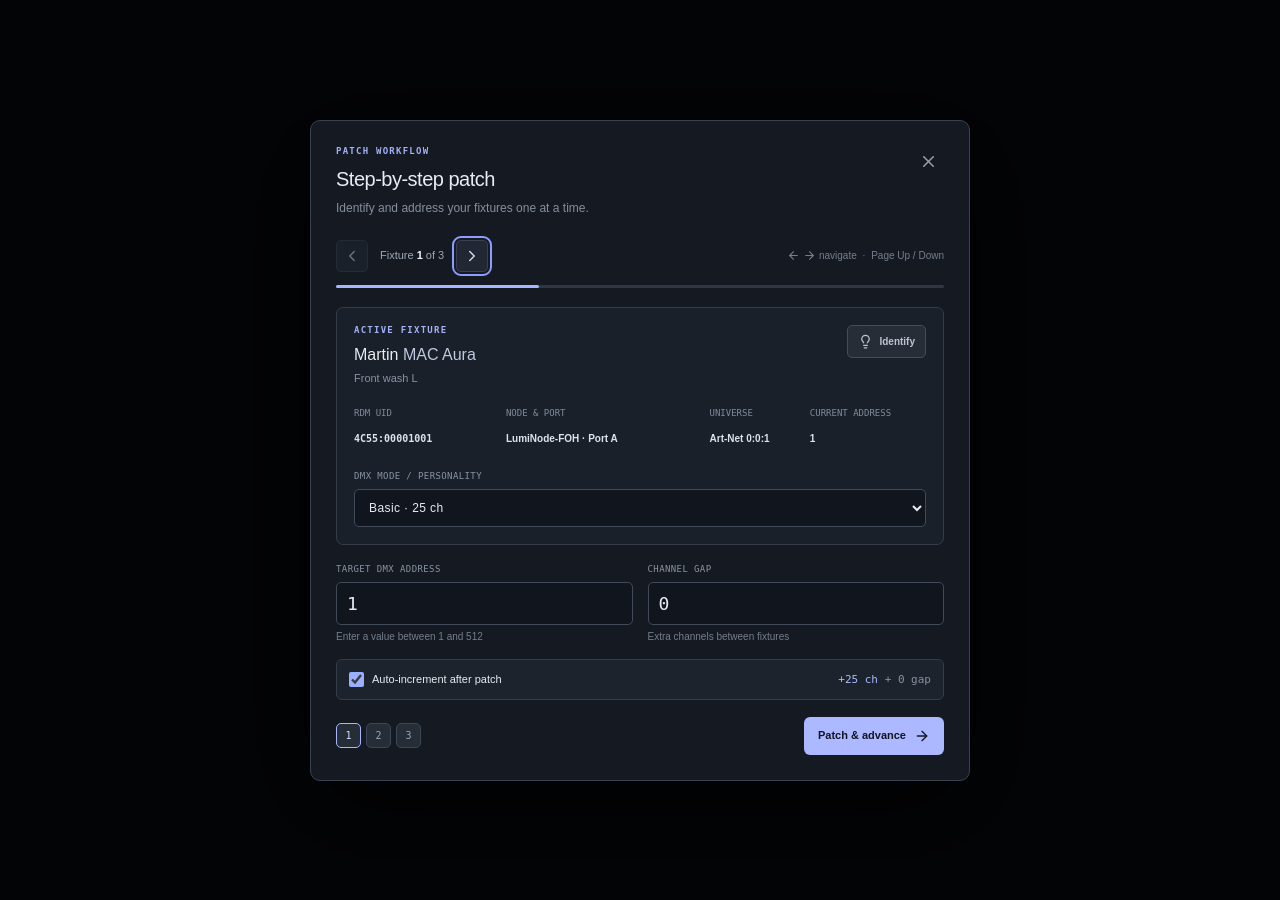
it: patch modal keyboard behavior › focuses initially, preserves navigation focus, and patches with Enter on an arrow
The image size is (1280, 900).
Click the button named "Next fixture" at (472, 256), box 456,240 -> 488,272
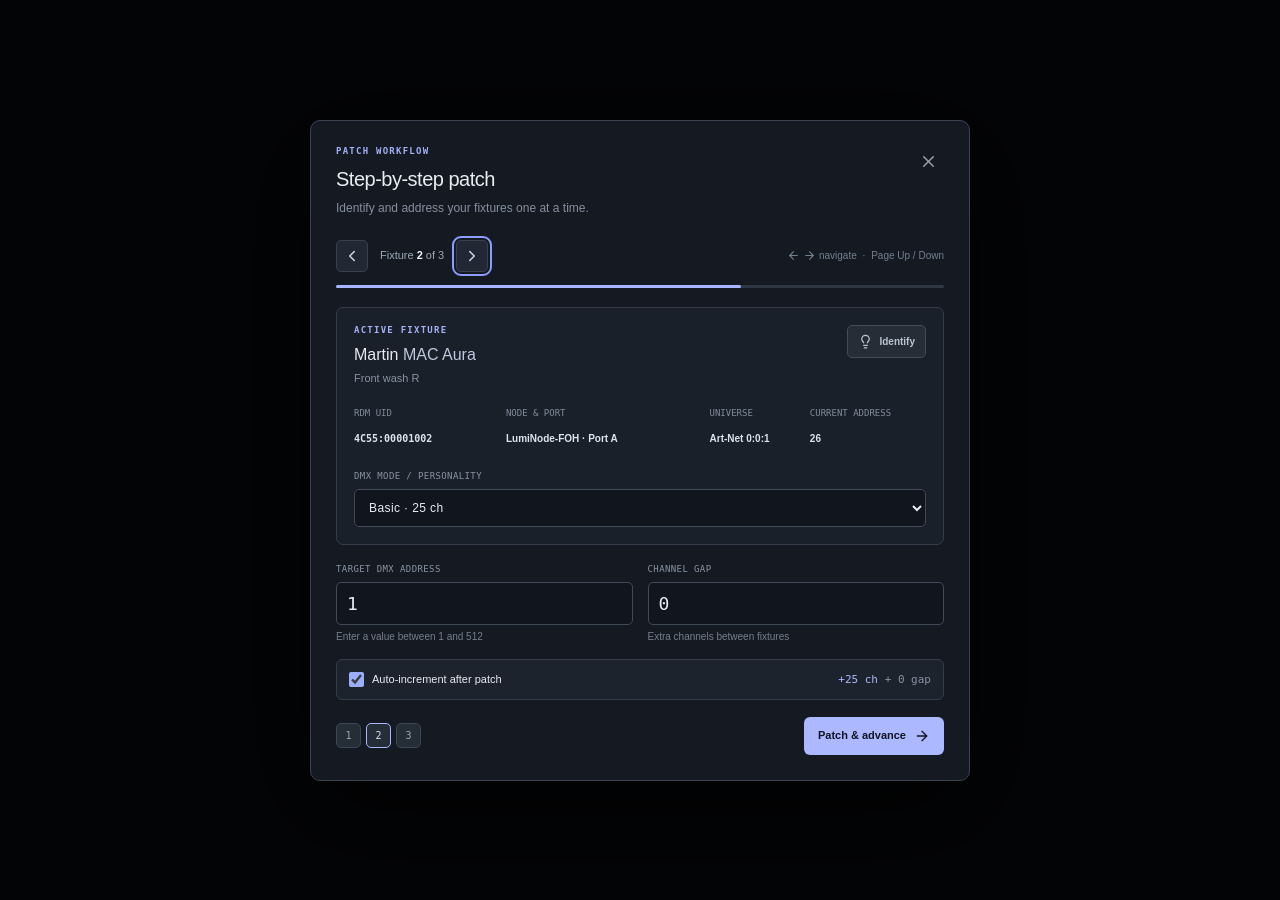
Check: the text "Fixture 2 of 3" is shown, box 380,247 -> 444,264
Press ArrowRight in the button named "Next fixture", box 456,240 -> 488,272
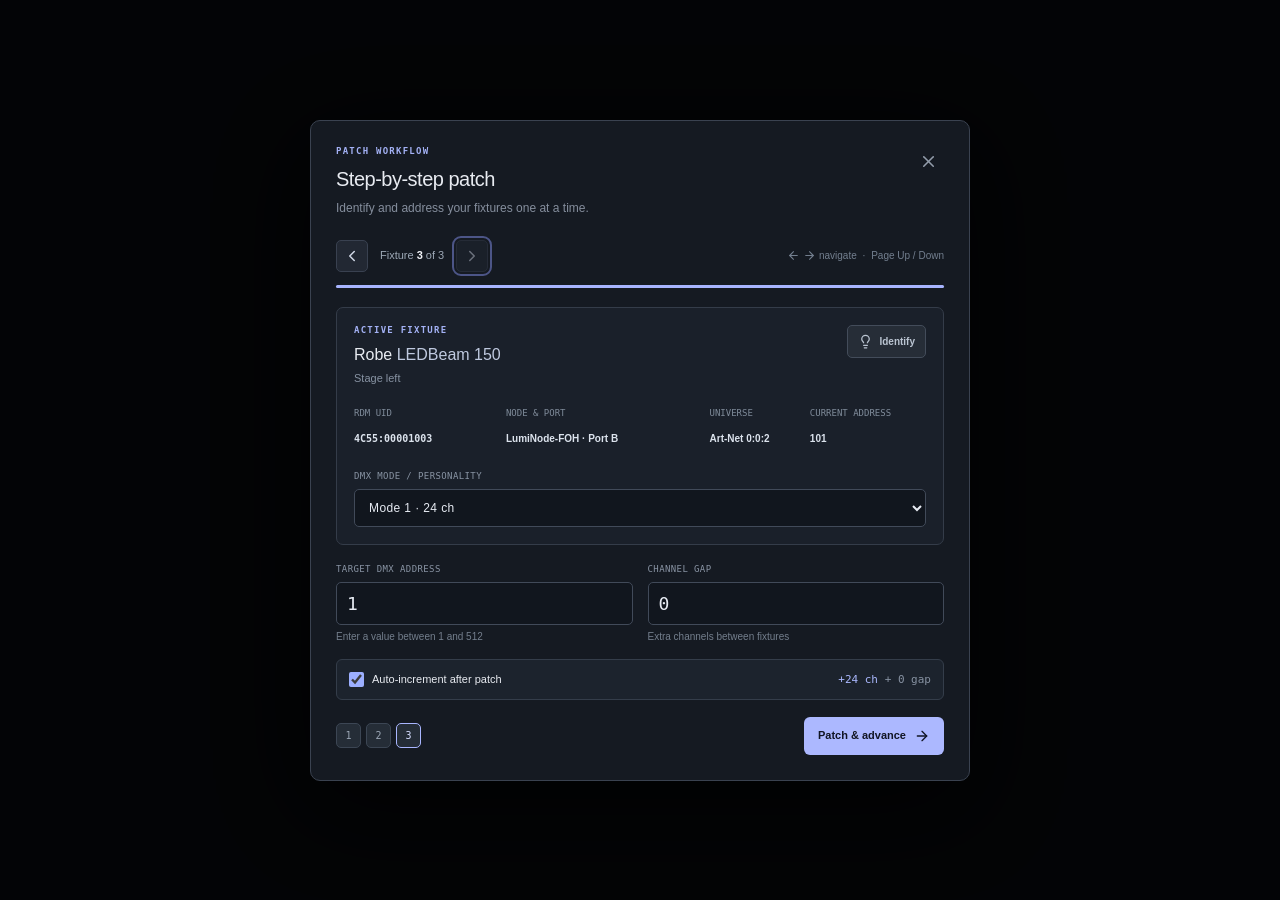
Check: the text "Fixture 3 of 3" is shown, box 380,247 -> 444,264
Press Enter in the button named "Next fixture", box 456,240 -> 488,272
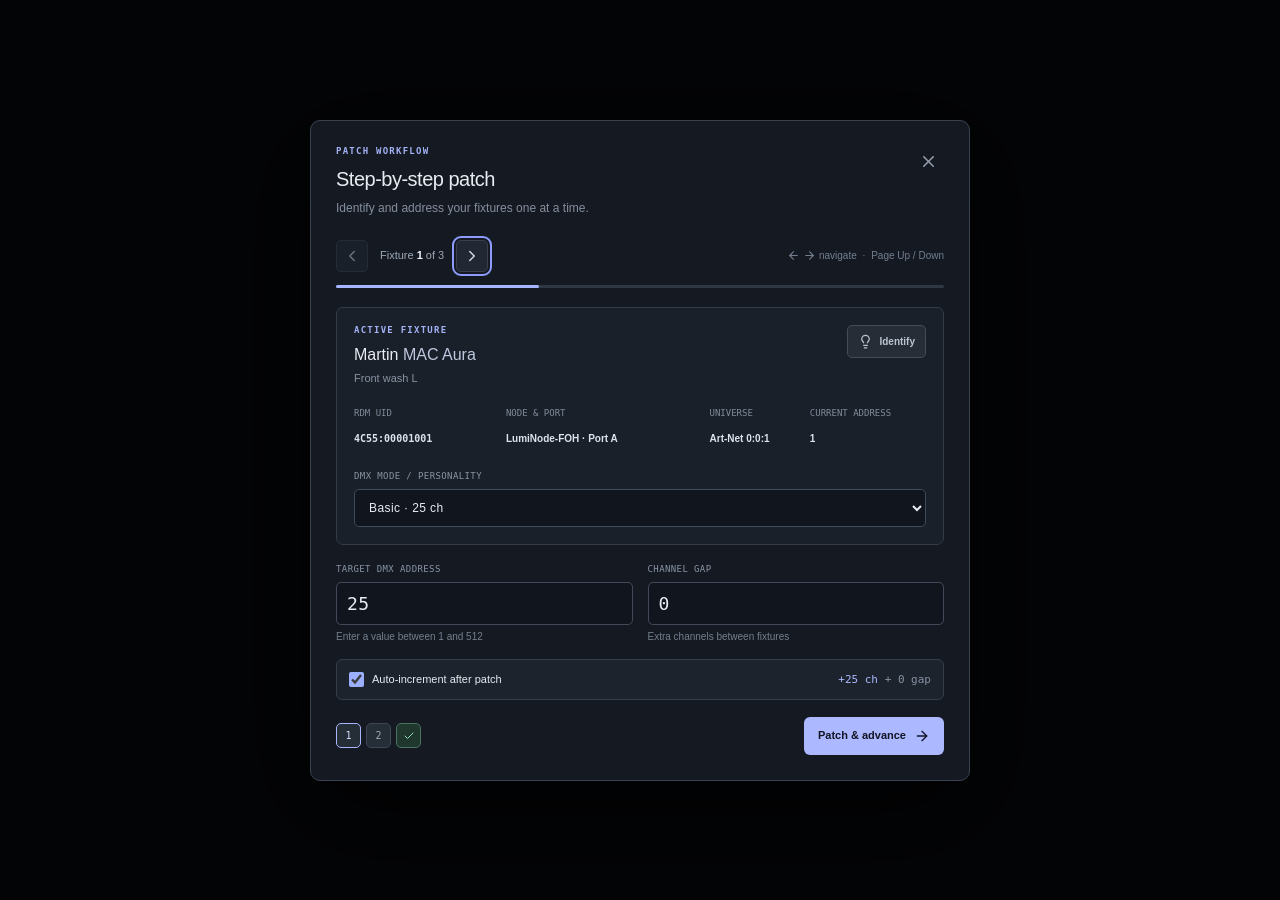
Check: the text "Fixture 1 of 3" is shown, box 380,247 -> 444,264
